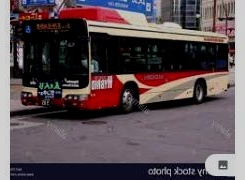bus: (21, 9, 232, 113)
